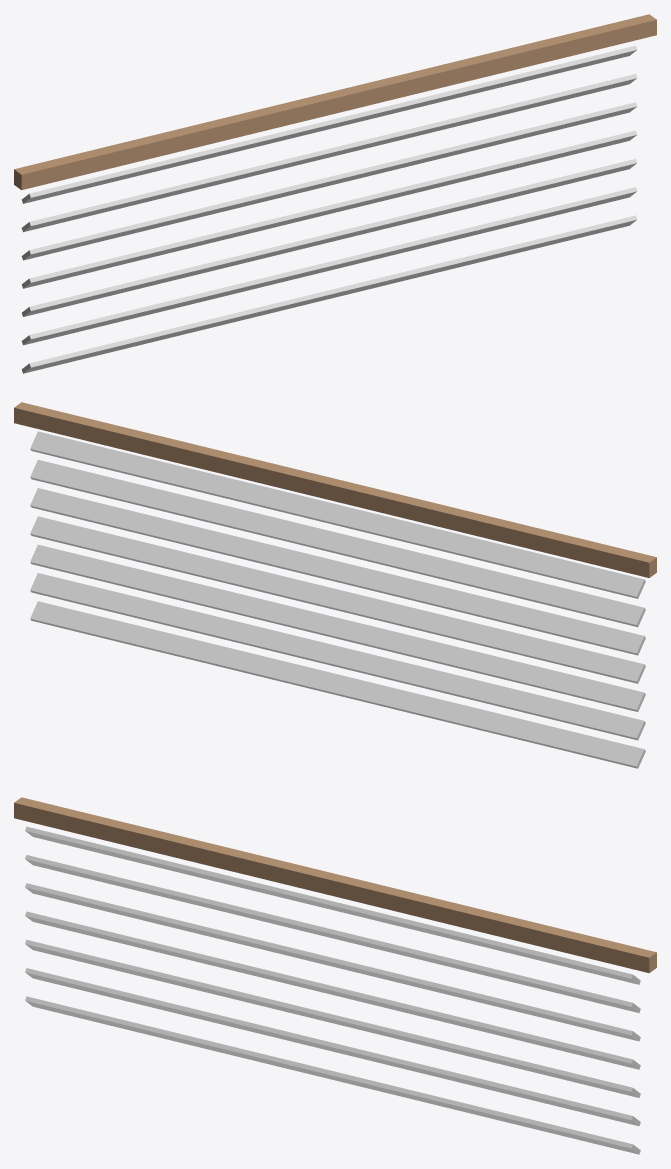
File: Cellular_blind_2.fbx
The picture shows the model from 3 angles, top to bottom: view 1: azimuth 30°, elevation 25°; view 2: azimuth 150°, elevation 25°; view 3: azimuth 330°, elevation 25°; orthographic projection.
Parts seen in each view (by area): view 1: Cellular_blind_2; view 2: Cellular_blind_2; view 3: Cellular_blind_2.
Part boxes in pixels (<box>): Cellular_blind_2: <box>14,14,656,373</box>; Cellular_blind_2: <box>14,402,656,768</box>; Cellular_blind_2: <box>14,797,656,1154</box>.
Size of the model in its own units: 158 by 49.3 by 4.36.
